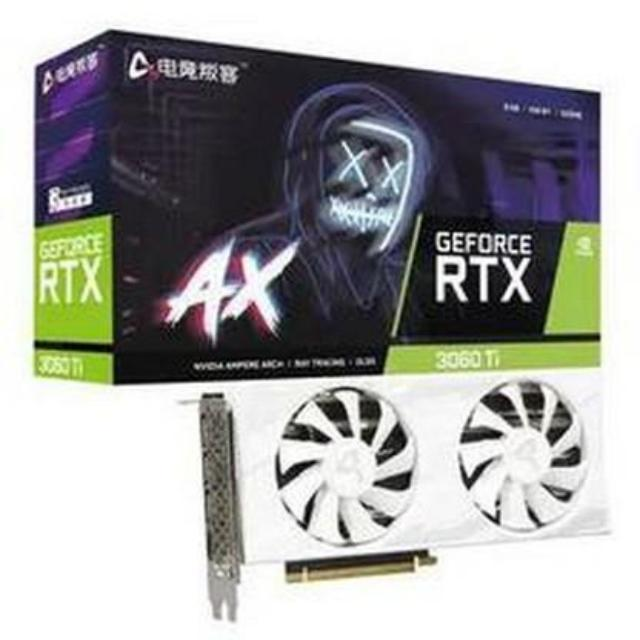GPU: (198, 367, 612, 604)
